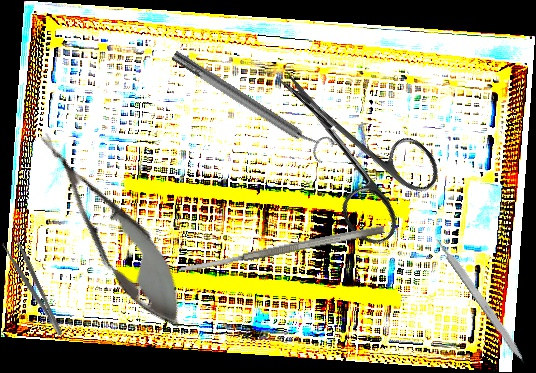Dressing Forceps: (0, 234, 66, 342)
Fixation Ring: (166, 41, 337, 166)
Iris Scissors: (239, 37, 453, 253)
Micro Scissor: (18, 118, 205, 342)
Scalpel Handle: (434, 235, 529, 365)
Spatula Surgical: (177, 224, 386, 275)
